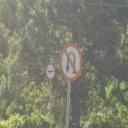NoVirarU: (60, 44, 83, 82)
